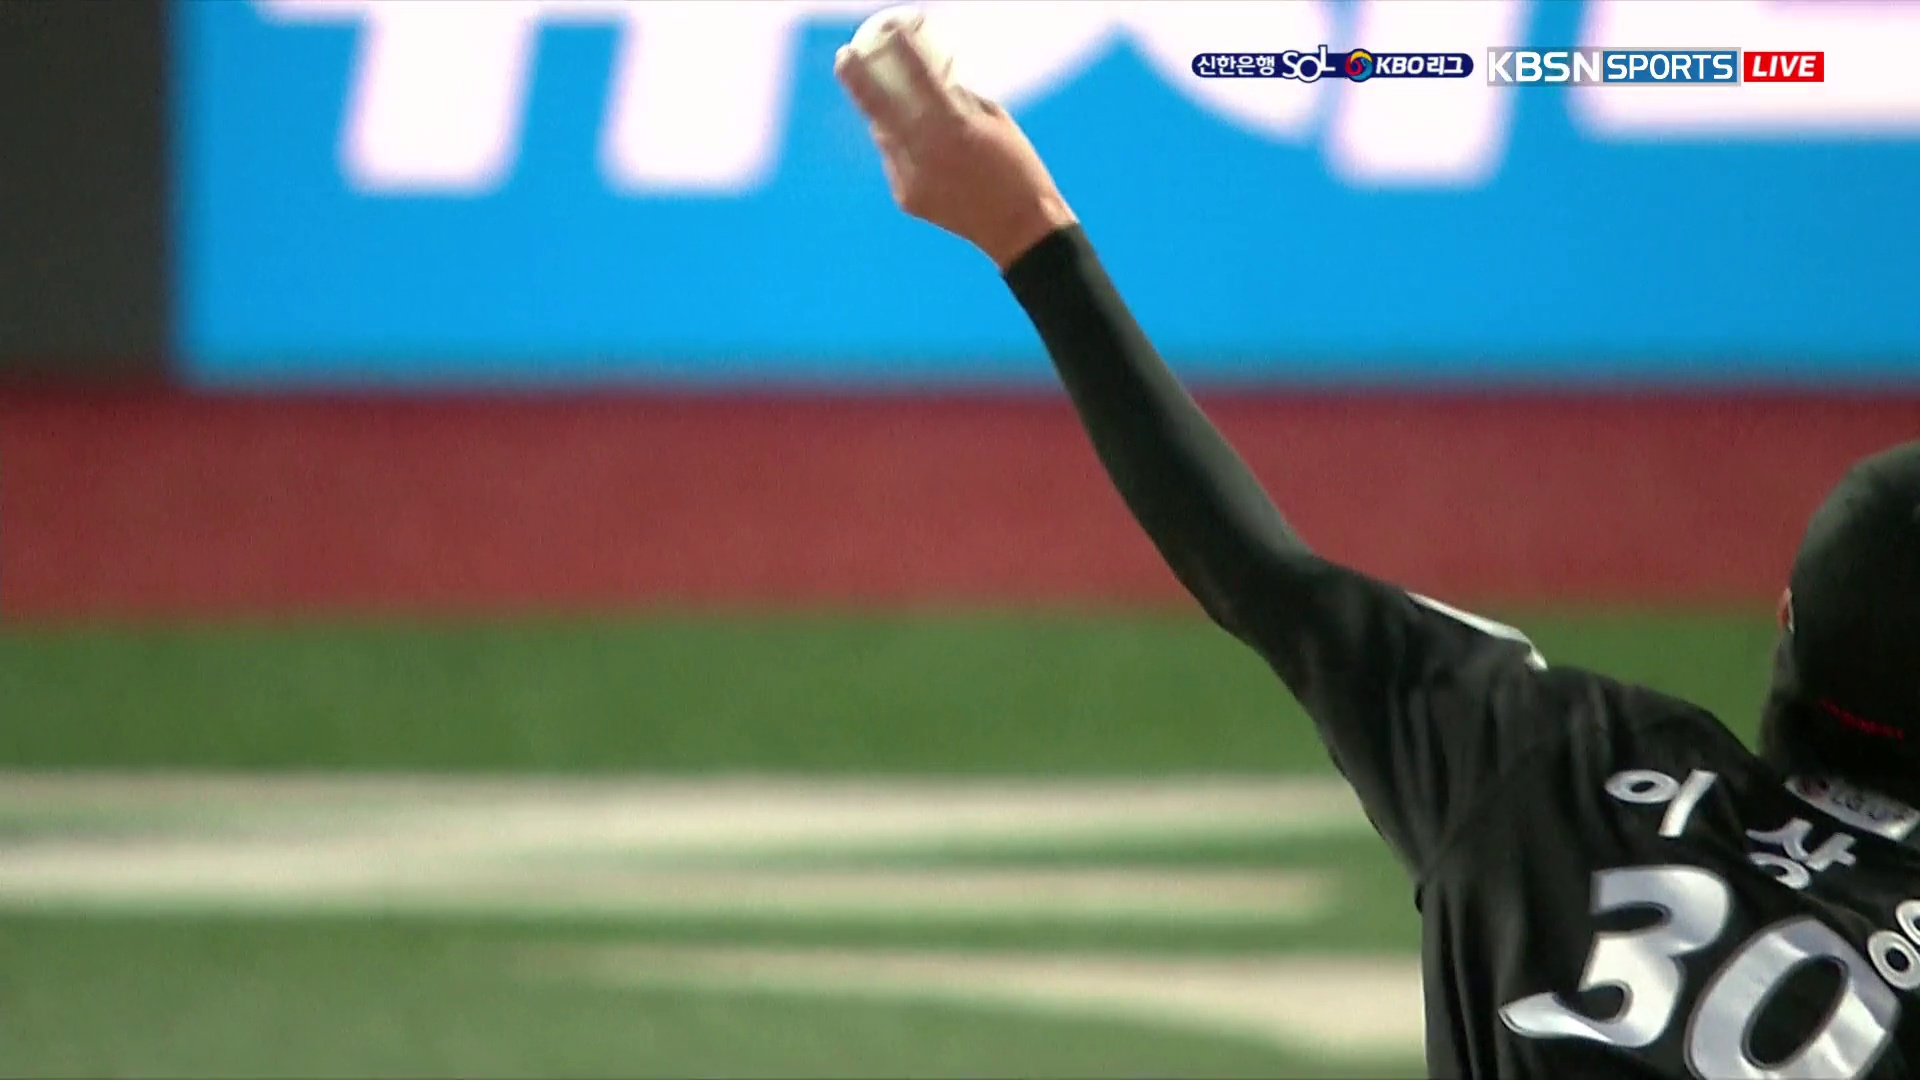zoomin_hand: (828, 1, 1316, 661)
